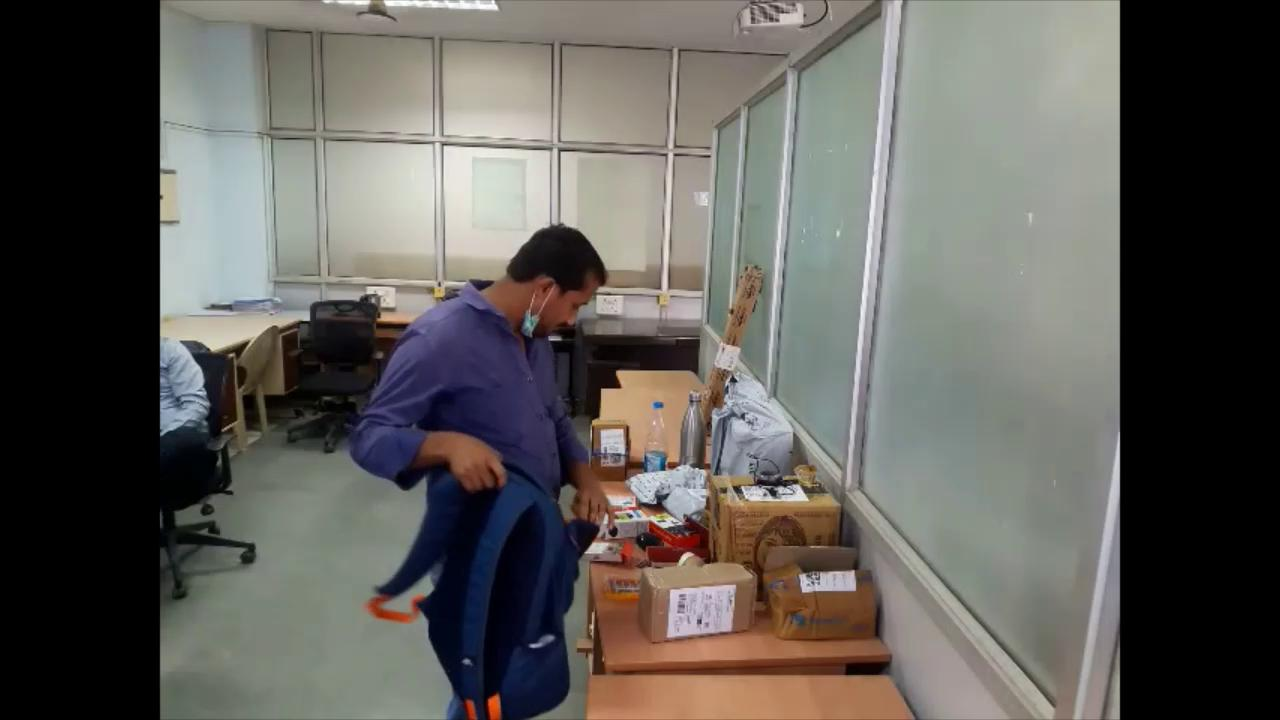shoplifting: (346, 219, 630, 720)
